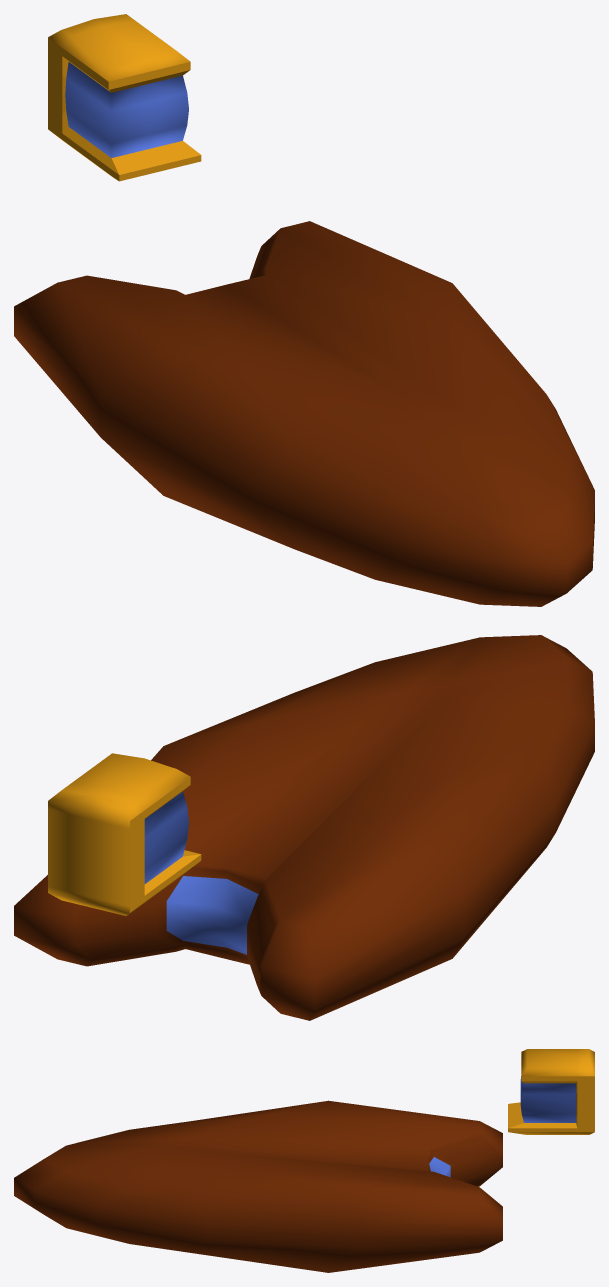
The model's file is rocketstar.fbx.
3 views of the same model, one above another, from view 1: azimuth 30°, elevation 25°; view 2: azimuth 150°, elevation 25°; view 3: azimuth 270°, elevation 25° (orthographic). The views are drawn at different scales.
Visible parts, largest first — view 1: Cube; view 2: Cube; view 3: Cube.
Boxes of the visible parts, x1=… form: Cube: x1=14, y1=14, x2=594, y2=606; Cube: x1=14, y1=635, x2=594, y2=1020; Cube: x1=14, y1=1049, x2=594, y2=1272.
Bounding box in the file's own units: 106 × 83.46 × 254.
